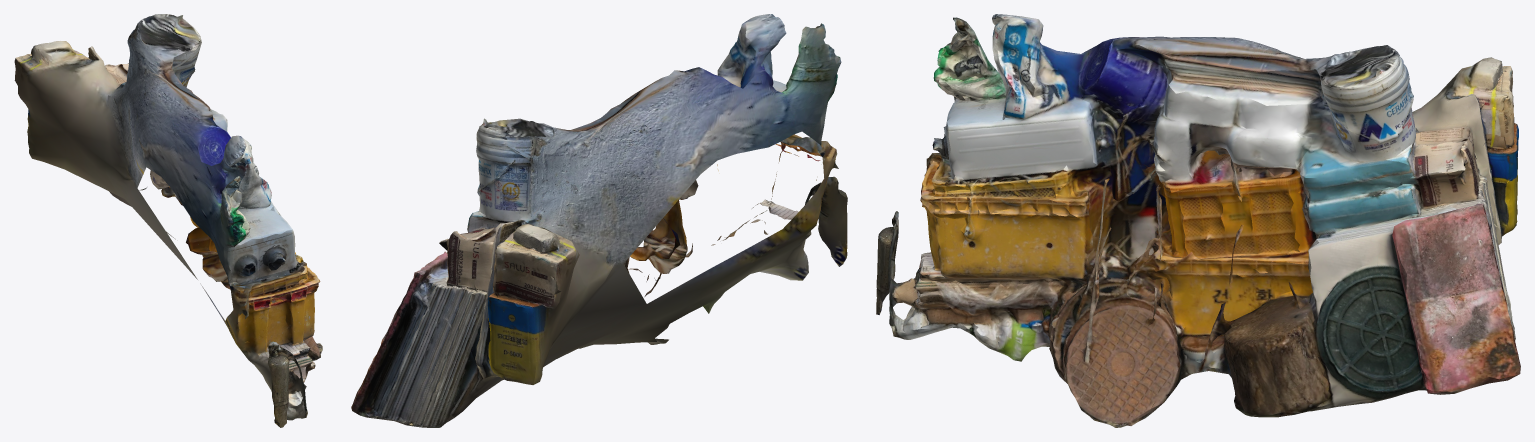
Rendered from jim2.gltf.
3 views of the same model, side by side, from view 1: azimuth 30°, elevation 25°; view 2: azimuth 150°, elevation 25°; view 3: azimuth 270°, elevation 25° (orthographic). The views are drawn at different scales.
Visible parts, largest first — view 1: Default; view 2: Default; view 3: Default.
Boxes of the visible parts, left/top/right/bottom form: Default: left=14, top=14, right=322, bottom=427; Default: left=351, top=14, right=847, bottom=427; Default: left=876, top=14, right=1520, bottom=427.
Bounding box in the file's own units: 0.00483 × 0.00649 × 0.0112.
Materials: 1 (1 with a texture image).
